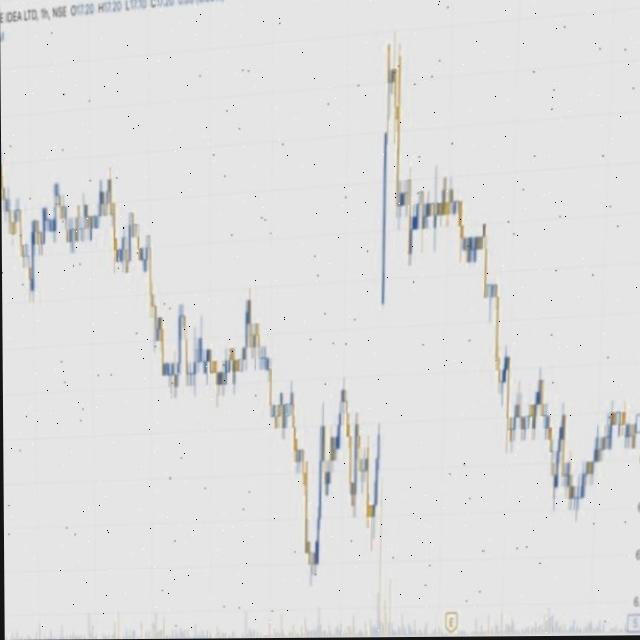Gap Up: (369, 262, 391, 474)
